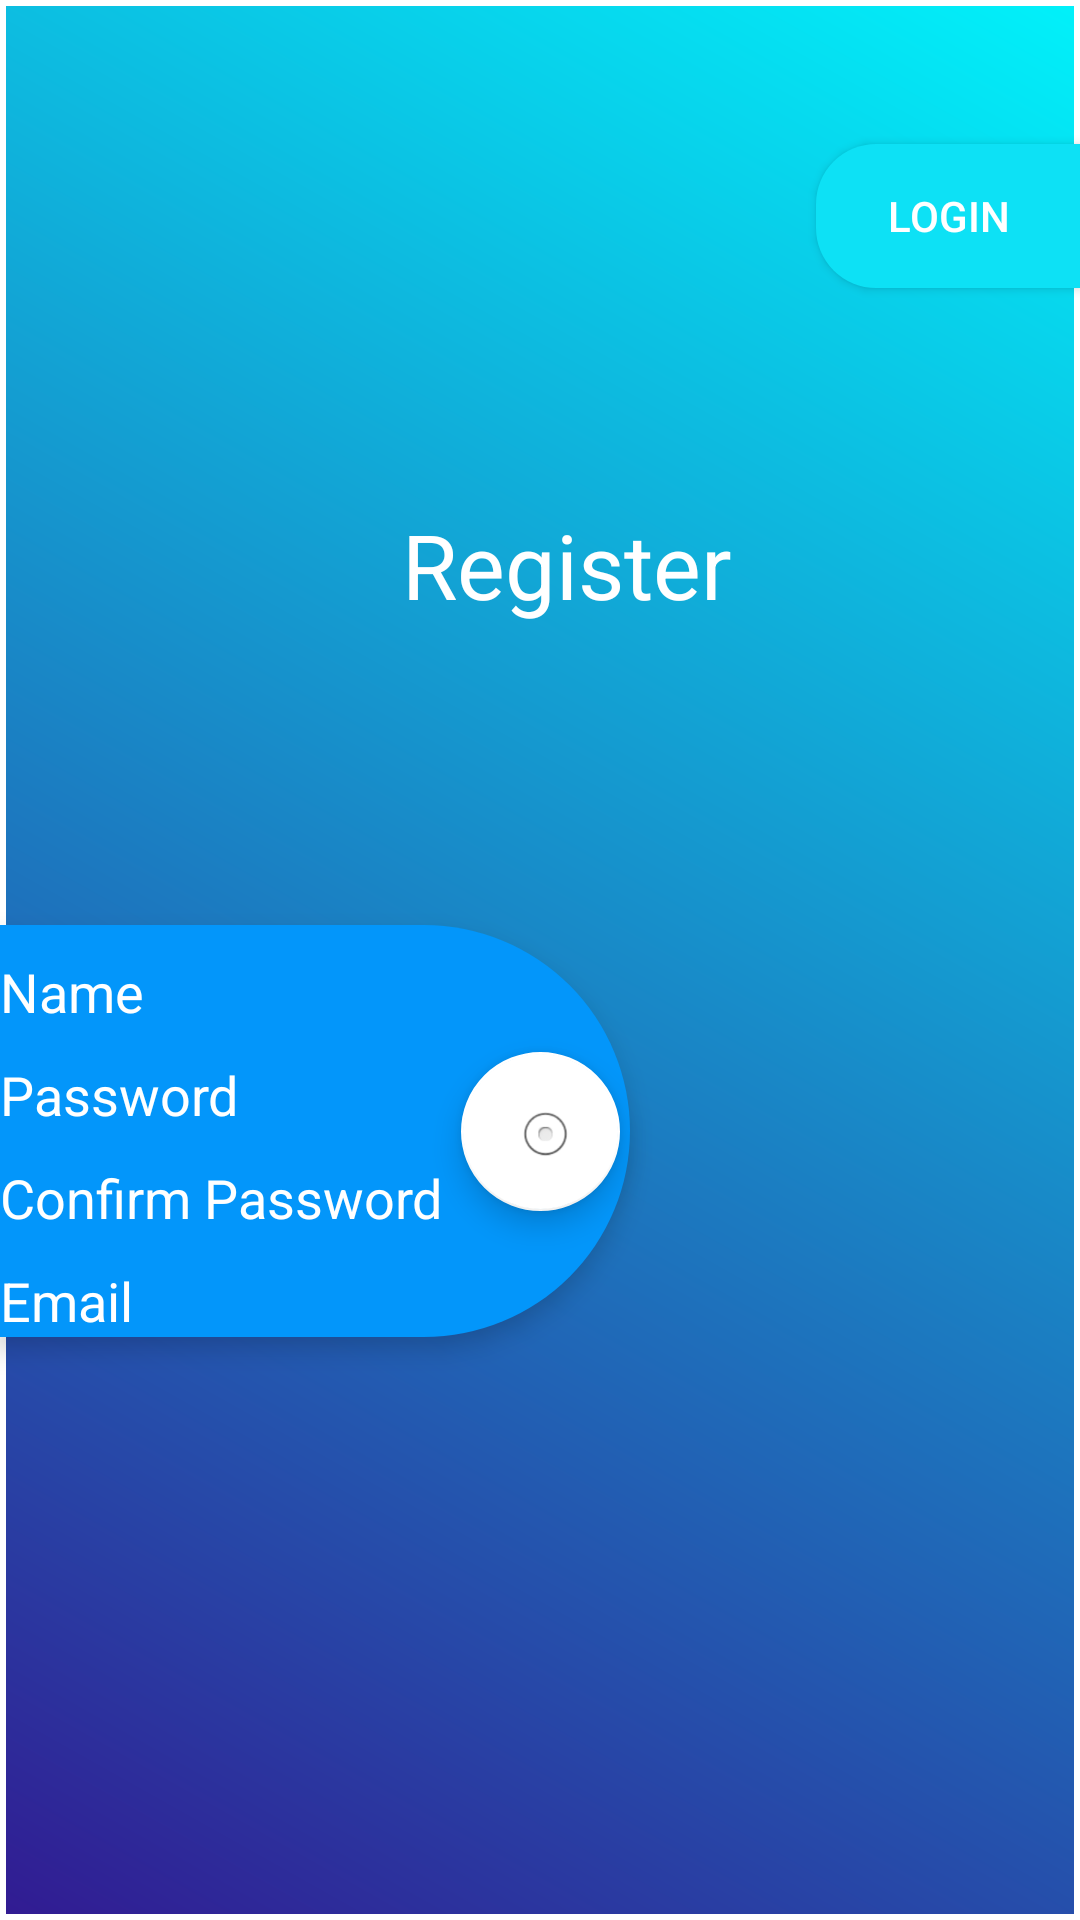

Named icons in this screenshot (1080x1920) and their centers, point (x, y):
radio: point (540, 1131)
